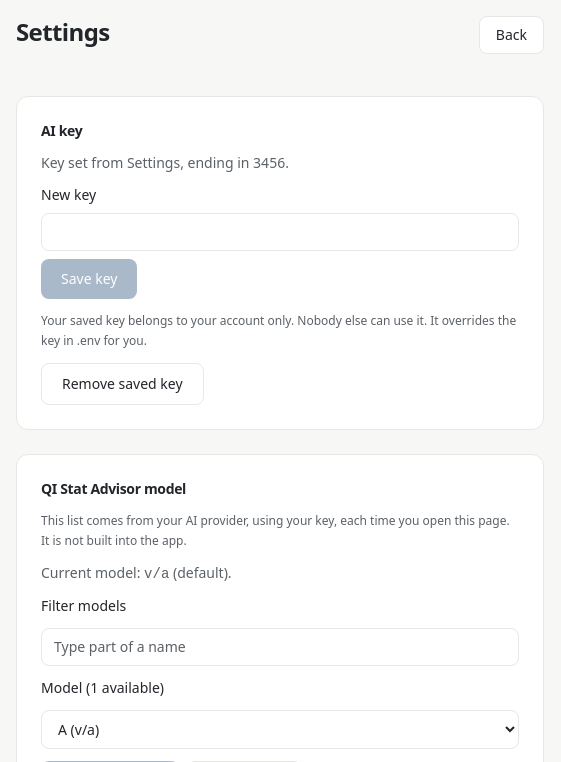
Test: Settings › removes a saved key
Click the button "Remove saved key" at (122, 384), box [41, 363, 204, 405]
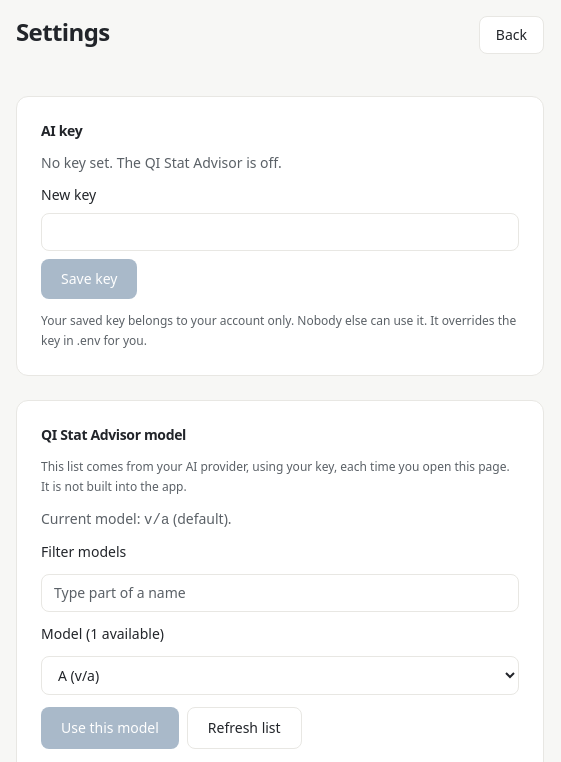
Expected: the text "No key set. The QI Stat Advisor is off." is shown, [41, 153, 282, 172]
